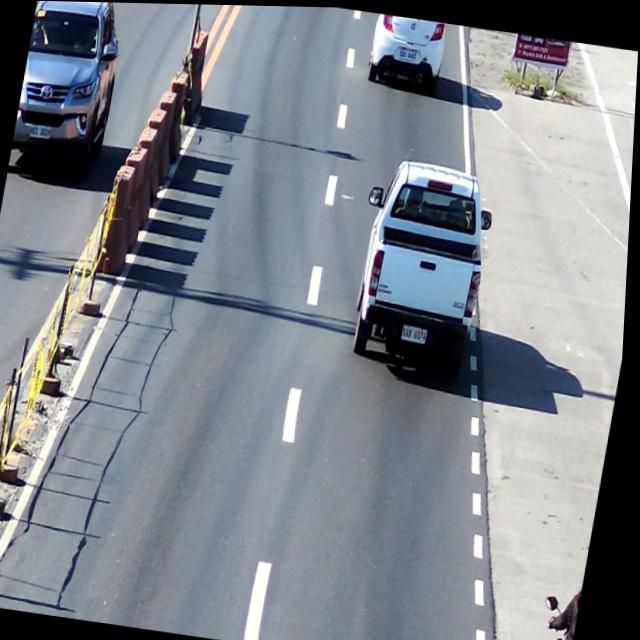Car: (343, 147, 505, 385), (9, 0, 130, 179), (364, 11, 450, 92)
License-Plate: (401, 319, 433, 345), (24, 122, 54, 143), (395, 43, 419, 64)
Motorcycle: (539, 574, 589, 640)
